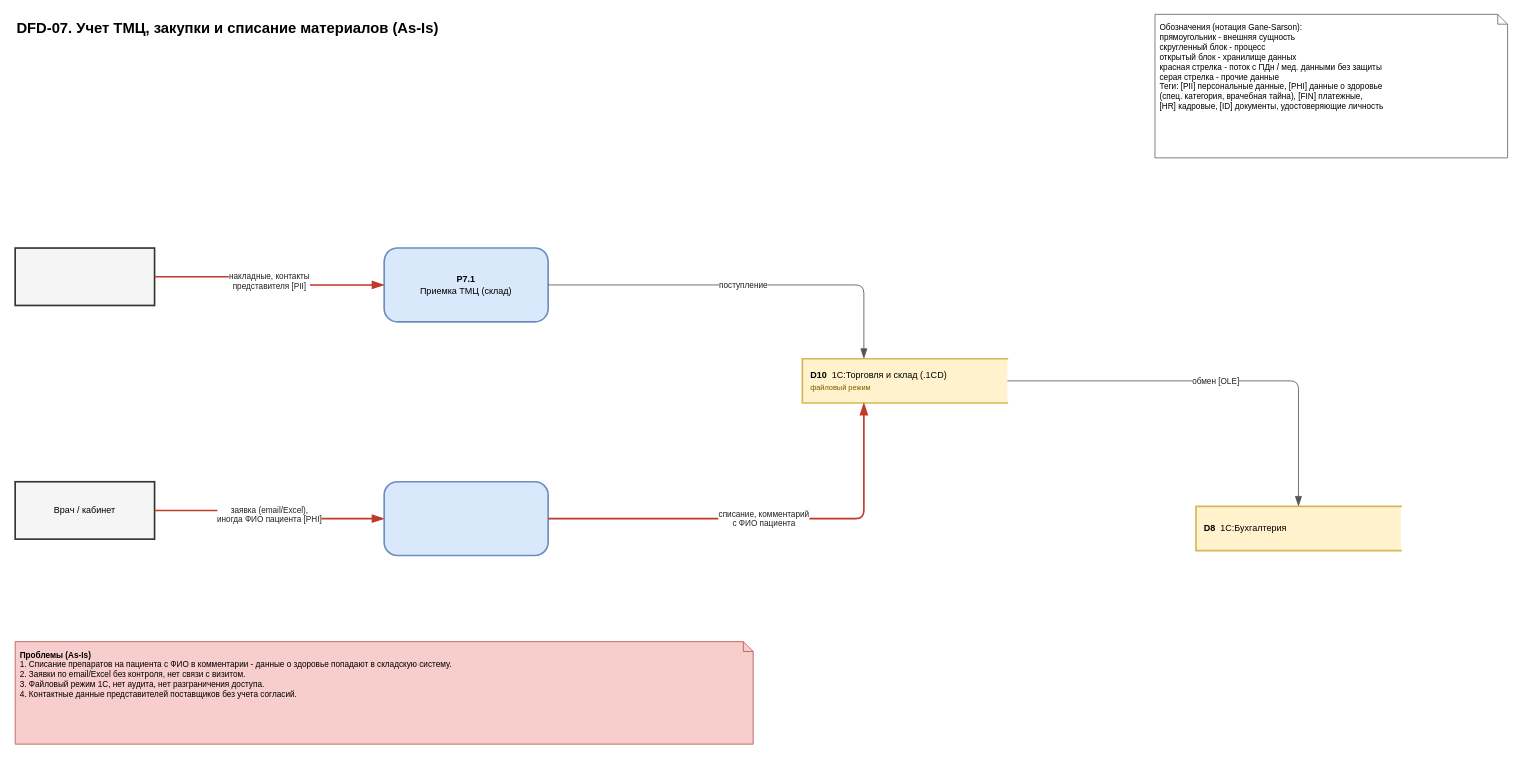
This 1522x759 diagram has some shape labels left out. The centre of each missing label's shape, as x and y in pixels:
P7.2 Выдача и списание материалов: pixel 466 518
Поставщик: pixel 84 276
